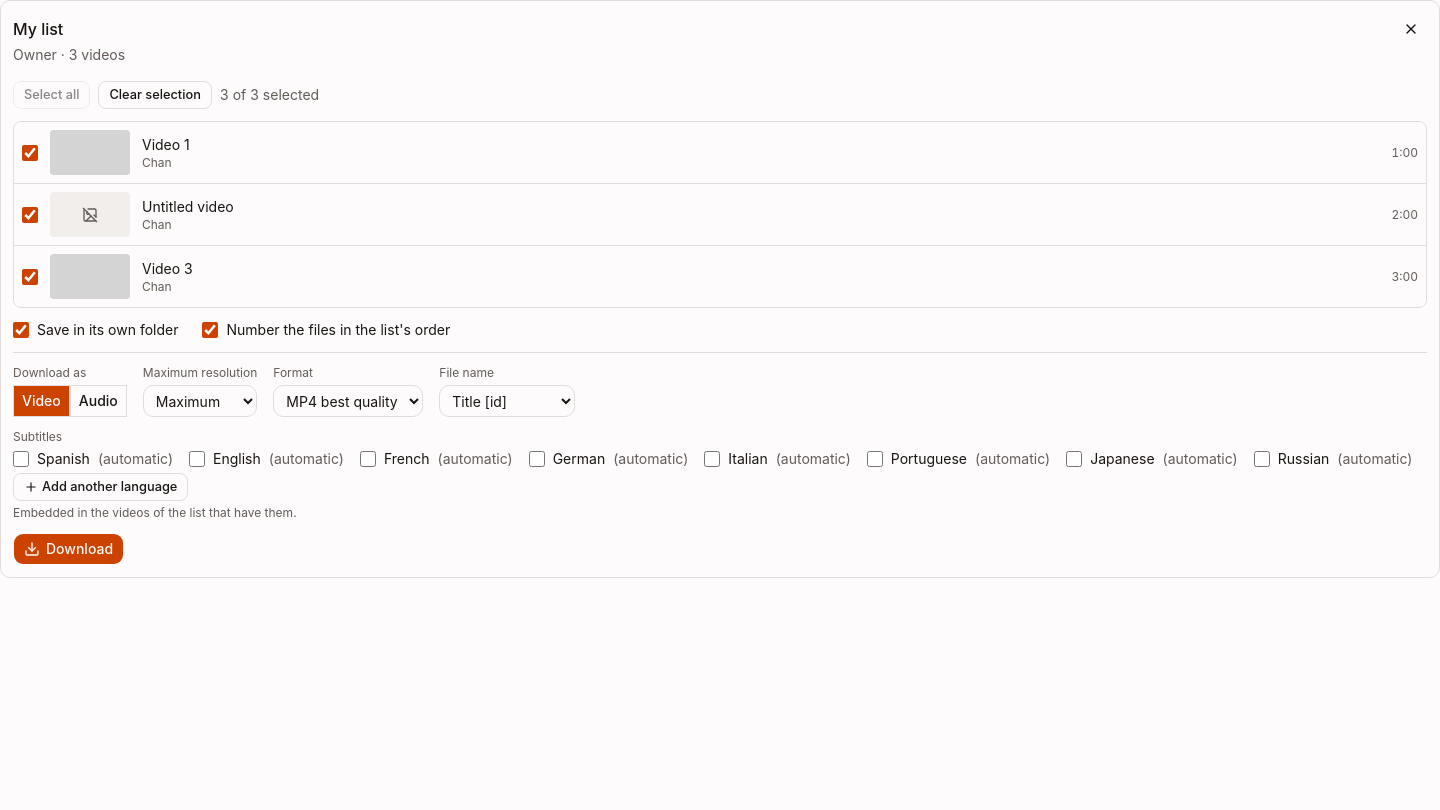
Scenario: the Download button › says how many were already in the queue
The image size is (1440, 810).
Click the button "Download": (69, 549) [13, 533, 124, 565]
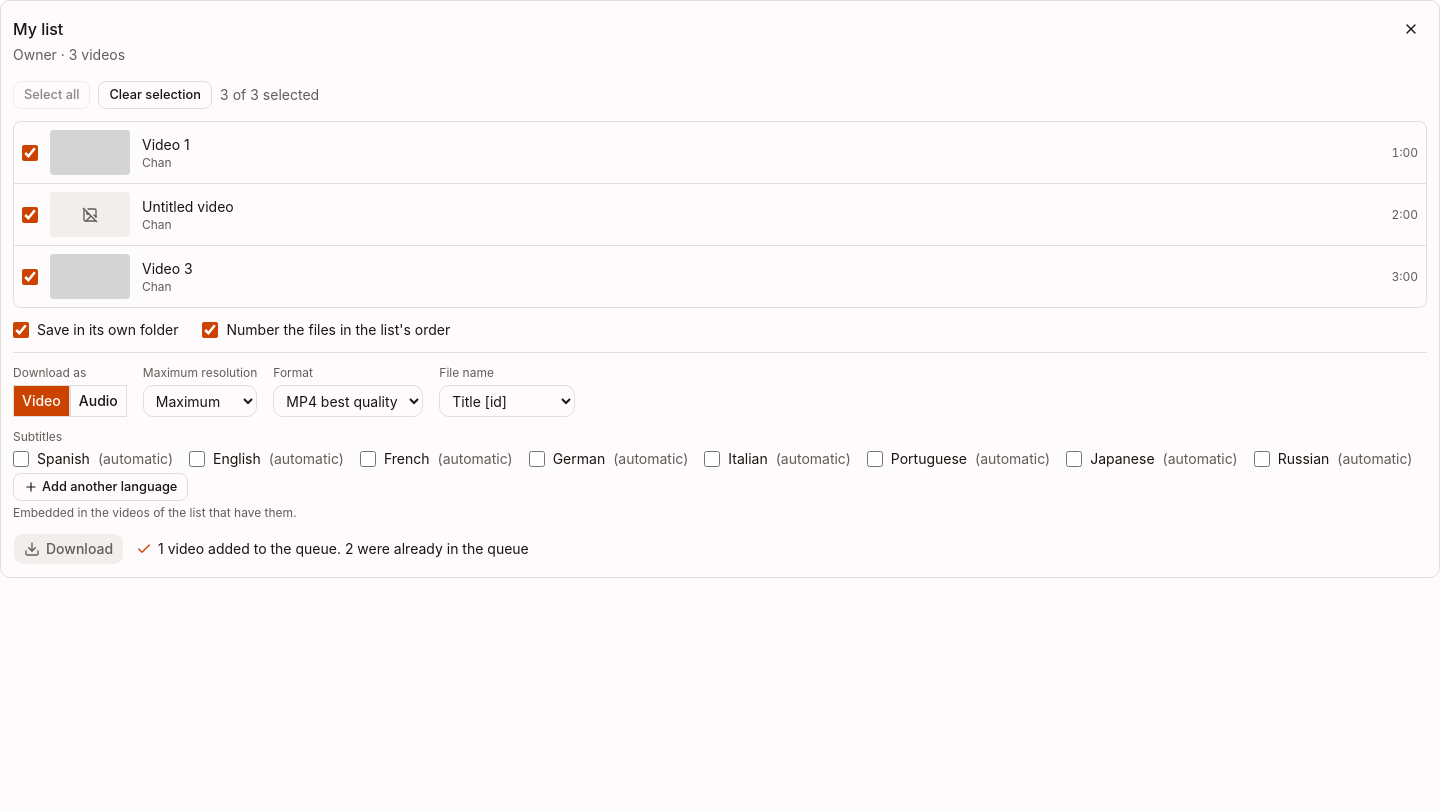
Check: the text "1 video added to the queue. 2 were already in the queue" is shown, box [136, 539, 529, 559]
